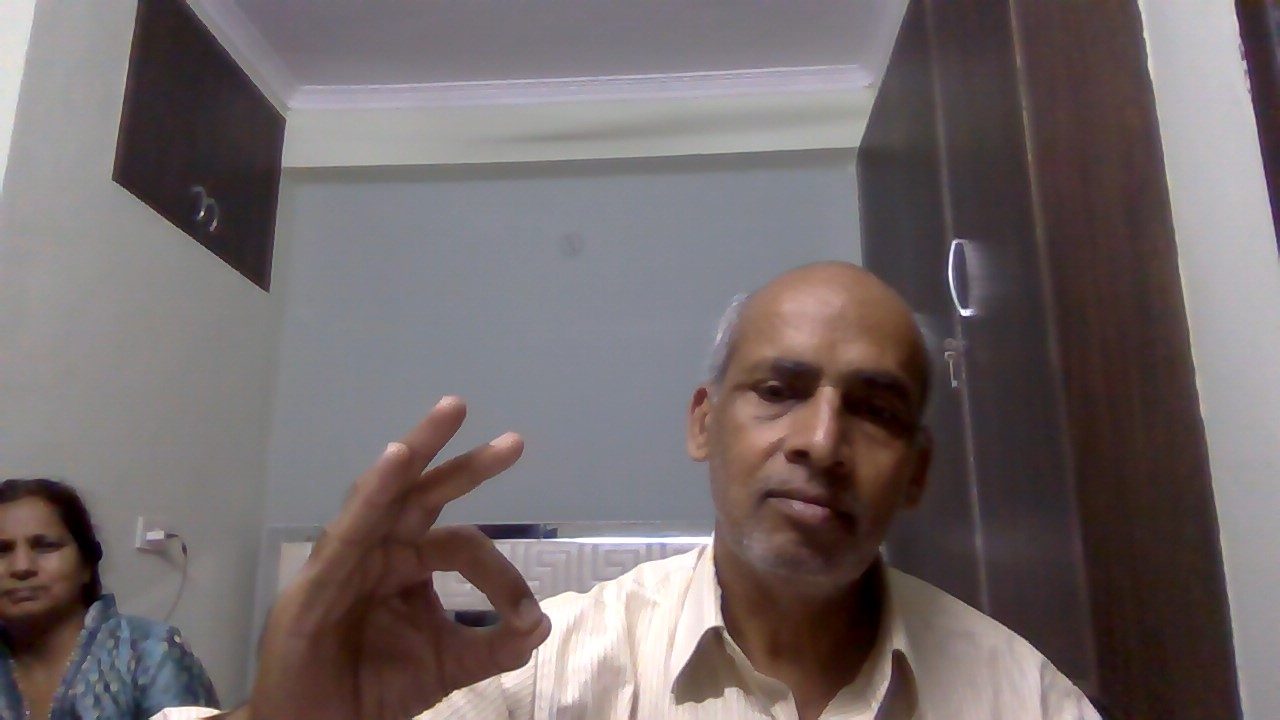Copy: (247, 385, 567, 720)
